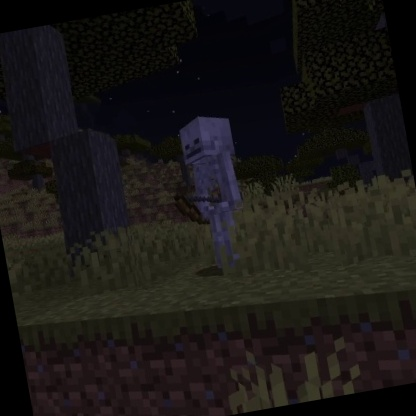skeleton: (157, 106, 260, 278)
